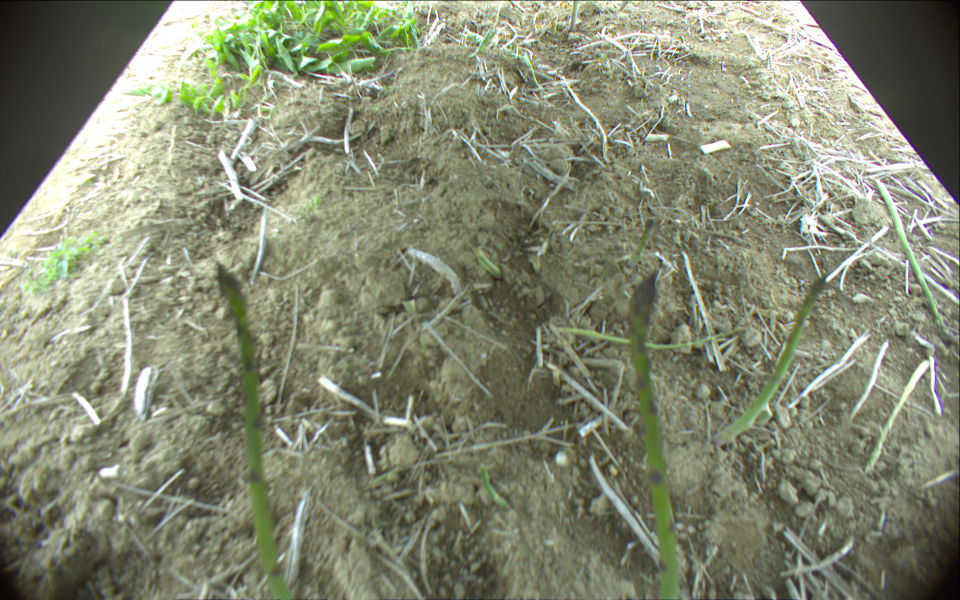aspa: (212, 263, 292, 600), (705, 272, 830, 450), (626, 272, 680, 600), (874, 179, 960, 344), (865, 359, 929, 474), (554, 322, 746, 348), (620, 216, 655, 265), (475, 247, 502, 281), (570, 1, 580, 31)
